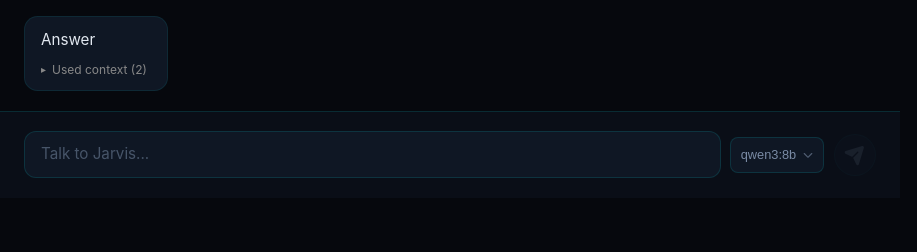
it: ChatPanel › trace list expands on click and shows all items
Click the button with class "trace-list__toggle" at (94, 69), box x1=37 y1=60 x2=151 y2=79
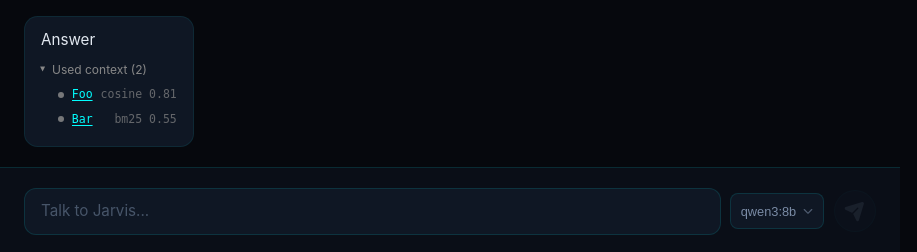
Expected: the number of list items with class "trace-list__item" is 2, x1=58 y1=86 x2=177 y2=103; x1=58 y1=111 x2=177 y2=128
